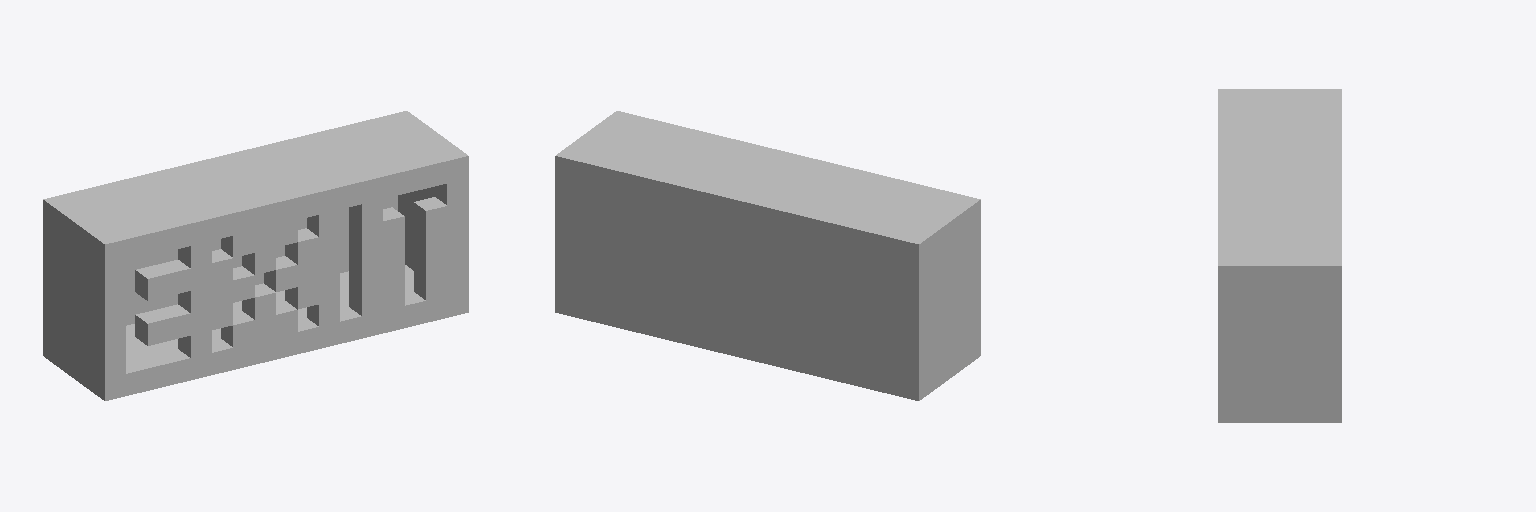
File: exit_sign.obj
3 renders of one model, left to right at view 1: azimuth 30°, elevation 25°; view 2: azimuth 150°, elevation 25°; view 3: azimuth 270°, elevation 25°, orthographic.
Visible parts, largest first — view 1: object 1; view 2: object 1; view 3: object 1.
Boxes of the visible parts, x1,y1,x2,y2 form: object 1: [43, 111, 468, 400]; object 1: [555, 111, 980, 400]; object 1: [1218, 89, 1341, 422].
Size of the model in its own units: 1.7 by 0.7 by 0.5.